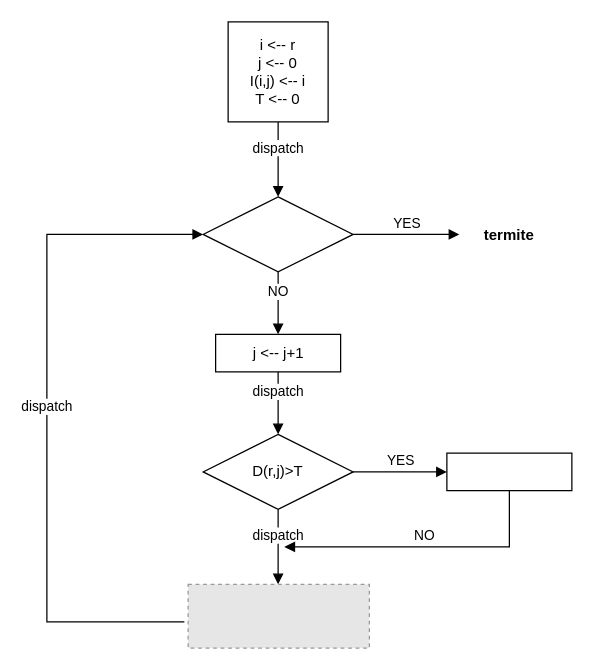
This 594x670 diagram has some shape labels left out. Grey dashed boxes stand in for pictures. The shapes that lost their labels are listed below. From the top down, each one's centre as x and y in pixels, then its label:
the point at 277,234: i <= j
the point at 509,471: i <-- i-1
